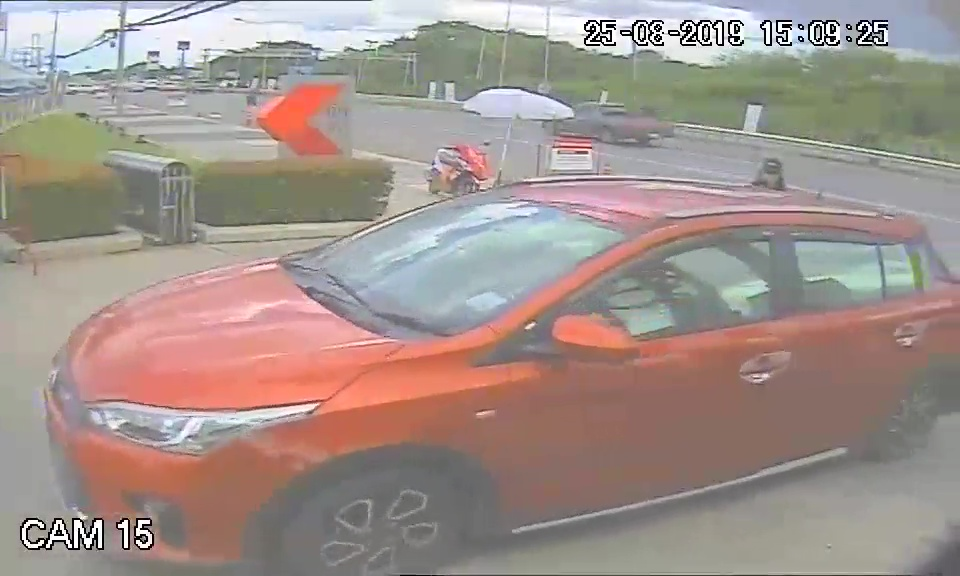sedan: (46, 176, 702, 564)
